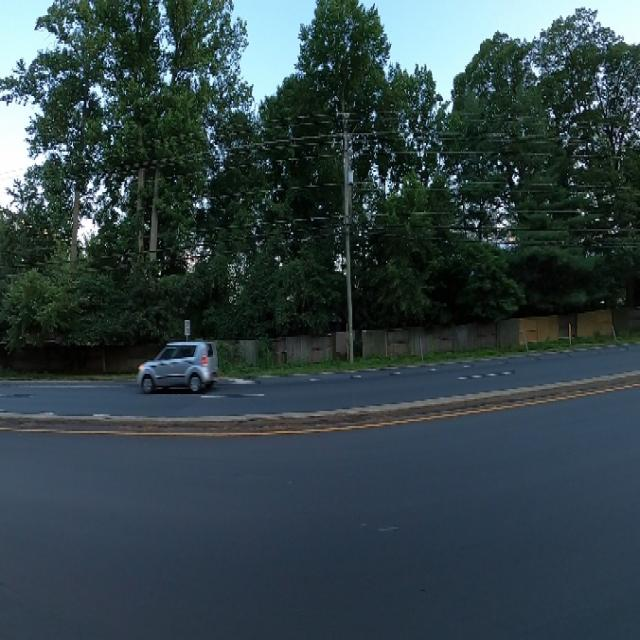car: (130, 332, 225, 397)
